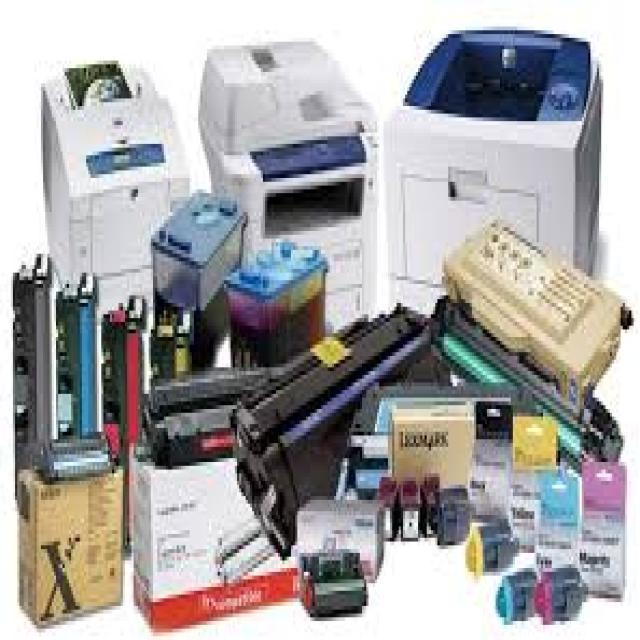printer: (380, 27, 604, 314), (196, 34, 379, 337)
